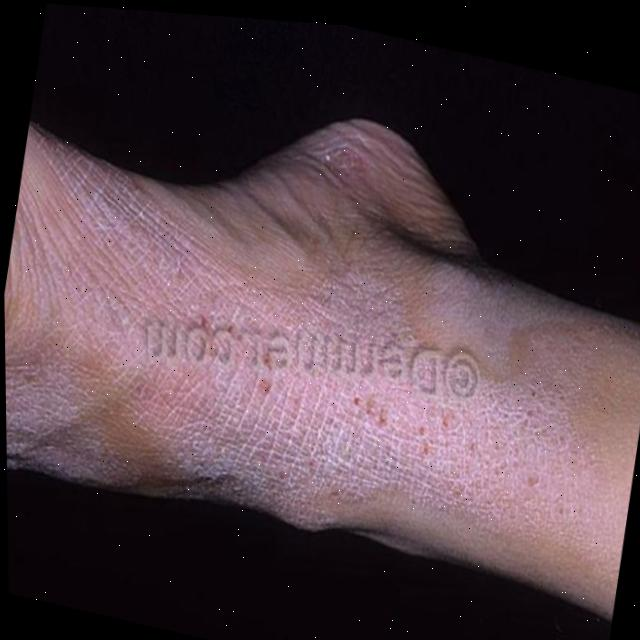Eczema: (2, 143, 625, 614)
